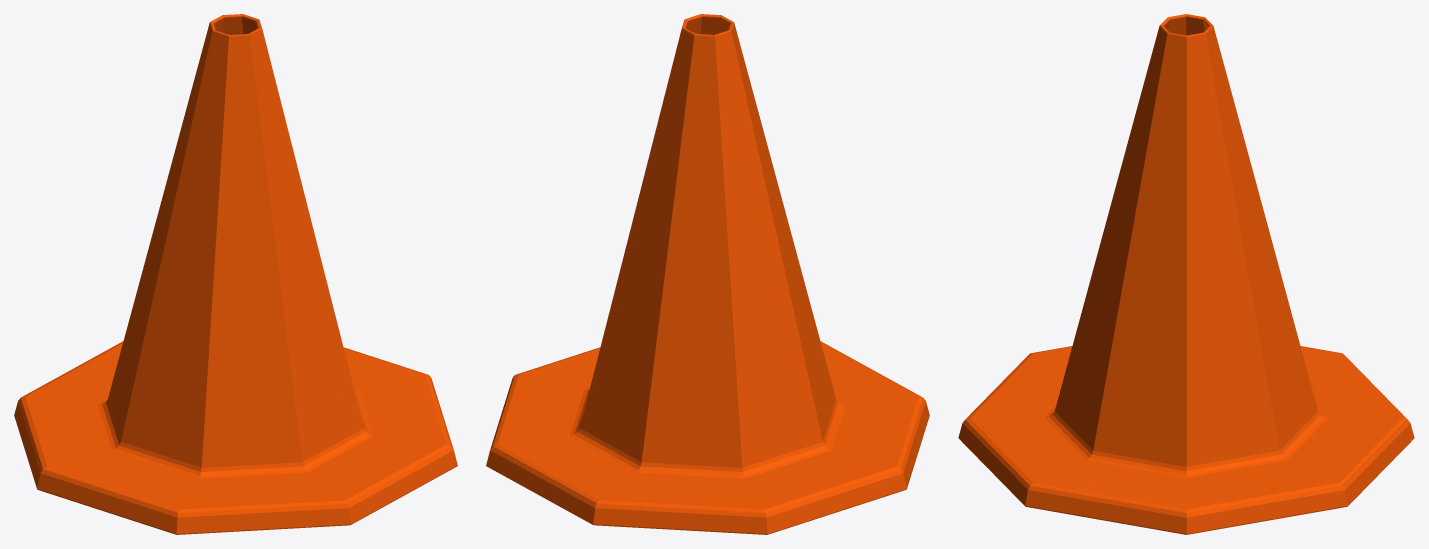
The picture shows the model from 3 angles, left to right: view 1: azimuth 30°, elevation 25°; view 2: azimuth 150°, elevation 25°; view 3: azimuth 270°, elevation 25°; orthographic projection.
Parts seen in each view (by area): view 1: Traffic Cone Sign Low-Poly; view 2: Traffic Cone Sign Low-Poly; view 3: Traffic Cone Sign Low-Poly.
Part boxes in pixels (left/top/right/bottom): Traffic Cone Sign Low-Poly: left=14, top=14, right=457, bottom=534; Traffic Cone Sign Low-Poly: left=486, top=14, right=929, bottom=534; Traffic Cone Sign Low-Poly: left=958, top=14, right=1414, bottom=534.
Bounding box in the file's own units: 0.4045 × 0.4054 × 0.4045.
1 material, 1 textured.
